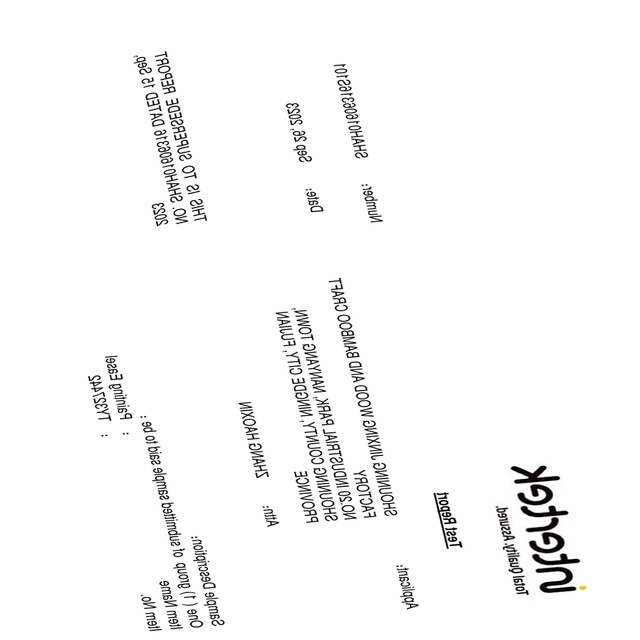intertek: (495, 462, 593, 601)
